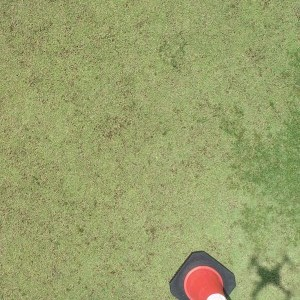traffic cone: (169, 251, 236, 300)
